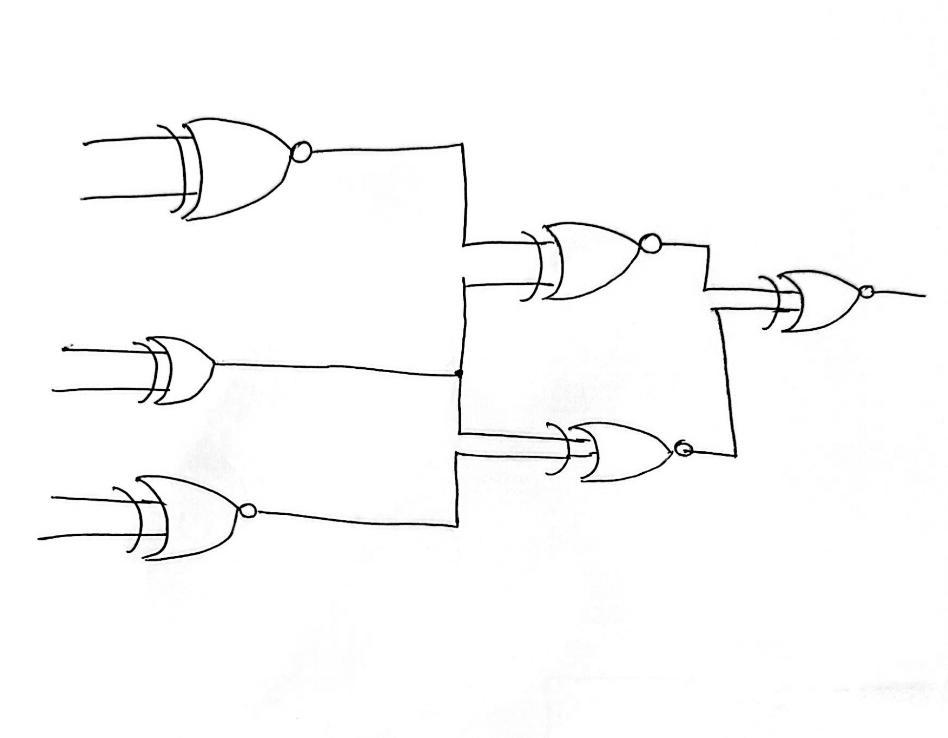XNOR: (146, 110, 341, 247), (536, 394, 710, 502), (503, 209, 677, 316), (94, 473, 271, 575), (753, 257, 906, 364)
XOR: (124, 324, 238, 415)
